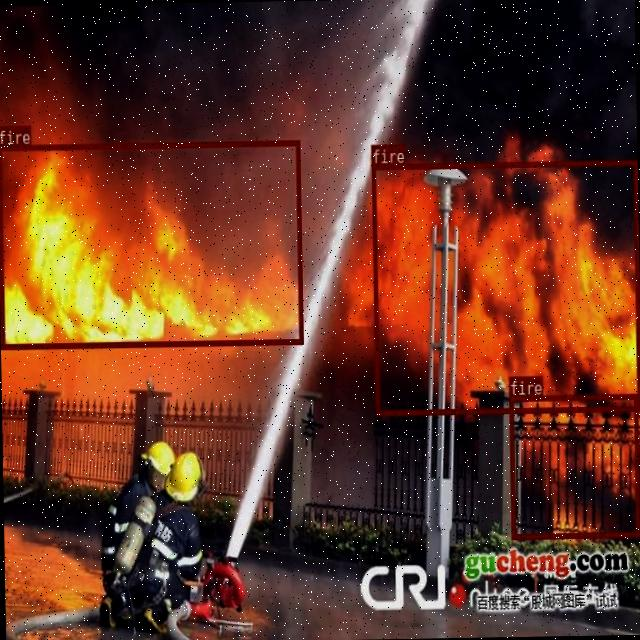fire: (370, 159, 640, 414), (0, 139, 301, 348), (508, 392, 638, 538)
